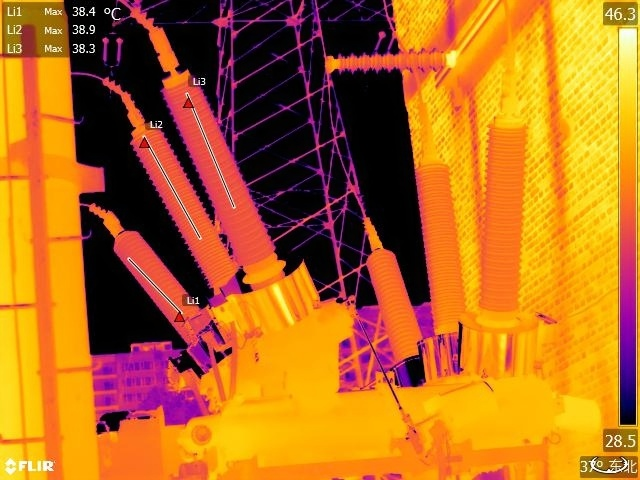post insulator: (328, 41, 461, 77)
switch: (469, 90, 534, 338)
tube: (172, 61, 283, 293), (129, 114, 237, 288), (113, 222, 212, 346), (357, 213, 422, 370), (417, 129, 465, 341)
